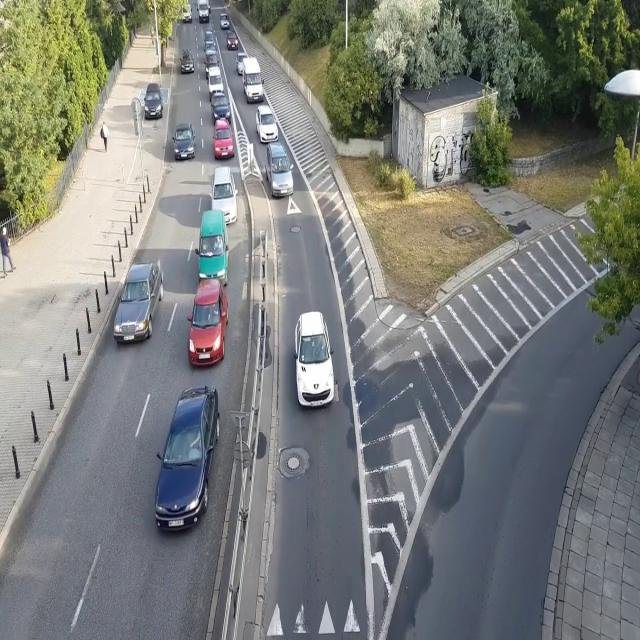car: (154, 384, 220, 534), (114, 257, 164, 345), (293, 310, 335, 406), (187, 278, 229, 369), (208, 166, 238, 226), (212, 118, 235, 160), (172, 122, 196, 160), (256, 104, 279, 143), (143, 82, 164, 119), (210, 92, 232, 125), (179, 48, 195, 73), (226, 29, 239, 52), (236, 52, 248, 75), (219, 12, 230, 30), (204, 41, 217, 54), (203, 29, 216, 41)
truck: (196, 0, 209, 22)
van: (195, 210, 229, 288), (265, 142, 294, 198), (242, 57, 264, 103), (207, 66, 224, 98), (203, 52, 220, 80), (182, 4, 192, 23)
